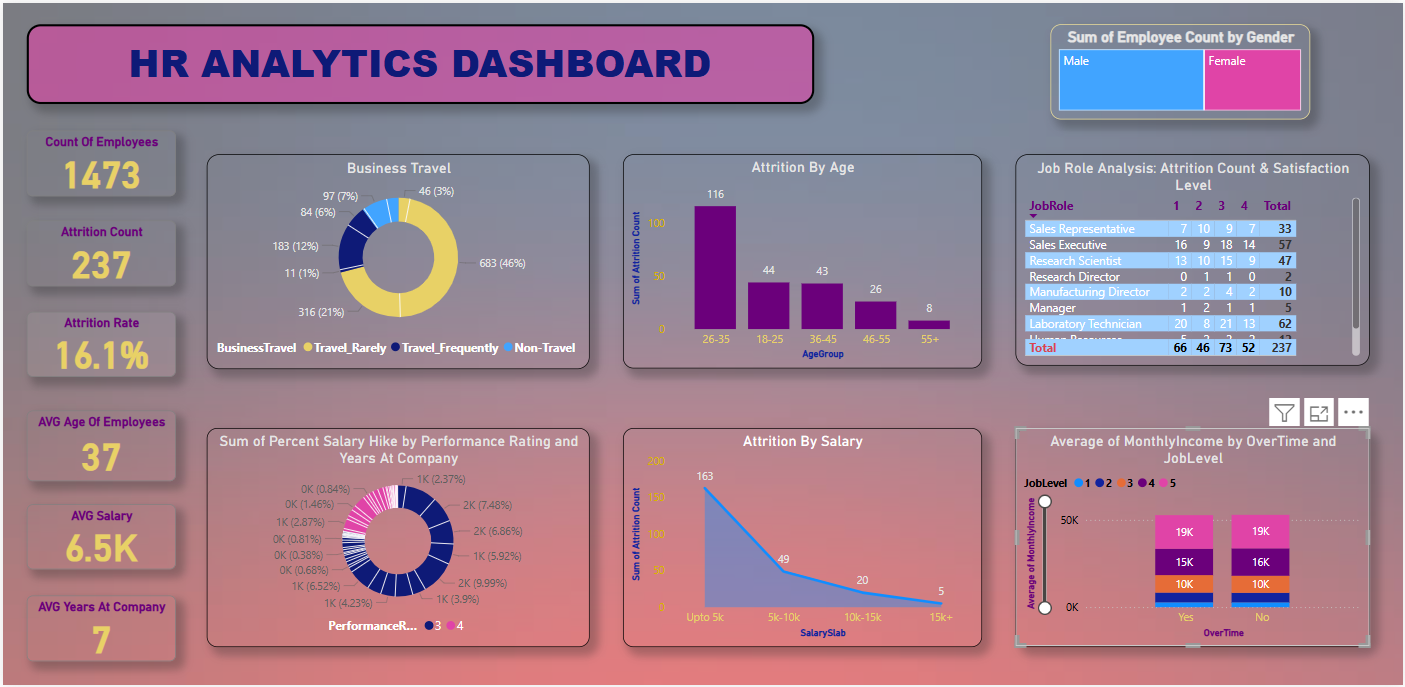

Layout of this report page (visuals, bound fields, positions):
{"tool":"powerbi","page":{"name":"Page 1","canvas":[1600,780],"ordinal":0},"visuals":[{"type":"card","title":"Count Of Employees","fields":{"Values":["CountNonNull(HR_Analytics.EmpID)"]},"box":[27.8,145.6,170,75.6],"z":0},{"type":"card","title":"Attrition Count","fields":{"Values":["Sum(HR_Analytics.Attrition Count)"]},"box":[27.8,248.9,170,75.6],"z":1000},{"type":"card","title":"Attrition Rate ","fields":{"Values":["HR_Analytics.Attrition Rate"]},"box":[27.8,353.3,170,74.4],"z":2000},{"type":"card","title":"AVG Age Of Employees","fields":{"Values":["Avg(HR_Analytics.Age)"]},"box":[27.8,465.6,170,81.1],"z":3000},{"type":"card","title":"AVG Salary","fields":{"Values":["Avg(HR_Analytics.MonthlyIncome)"]},"box":[27.8,572.2,170,74.4],"z":4000},{"type":"card","title":"AVG Years At Company","fields":{"Values":["Avg(HR_Analytics.YearsAtCompany)"]},"box":[27.8,677.8,170,75.6],"z":5000},{"type":"donutChart","title":"Business Travel","fields":{"Category":["HR_Analytics.BusinessTravel"],"Y":["Sum(HR_Analytics.EmployeeCount)"],"Series":["HR_Analytics.Department"]},"box":[232.2,173.3,437.8,245.6],"z":6000},{"type":"columnChart","title":"Attrition By Age","fields":{"Category":["HR_Analytics.AgeGroup"],"Y":["Sum(HR_Analytics.Attrition Count)"]},"box":[708.3,173.3,410,245],"z":7000},{"type":"pivotTable","title":"Job Role Analysis: Attrition Count & Satisfaction Level","fields":{"Rows":["HR_Analytics.JobRole"],"Columns":["HR_Analytics.JobSatisfaction"],"Values":["Sum(HR_Analytics.Attrition Count)"]},"box":[1156.7,173.3,405,241.7],"z":8000},{"type":"areaChart","title":"Attrition By Salary","fields":{"Category":["HR_Analytics.SalarySlab"],"Y":["Sum(HR_Analytics.Attrition Count)"]},"box":[708.3,485,410,250],"z":9000},{"type":"donutChart","title":"Sum of Percent Salary Hike by Performance Rating and Years At Company","fields":{"Category":["HR_Analytics.PerformanceRating"],"Y":["Sum(HR_Analytics.PercentSalaryHike)"],"Series":["HR_Analytics.YearsAtCompany"]},"box":[232.2,485.6,437.8,250],"z":10000},{"type":"columnChart","fields":{"Y":["Avg(HR_Analytics.MonthlyIncome)"],"Category":["HR_Analytics.OverTime"],"Series":["HR_Analytics.JobLevel"]},"box":[1156.7,485,405,250],"z":11000},{"type":"treemap","title":"Sum of Employee Count by Gender","fields":{"Group":["HR_Analytics.Gender"],"Values":["Sum(HR_Analytics.EmployeeCount)"]},"box":[1196.7,24.4,296.7,108.9],"z":12000},{"type":"textbox","box":[27.8,24.4,900,91.1],"z":13000}]}

Visuals, with their boxes in screenshot pixels (x1, y1, x2, y2), scaled from the page's 1600x780 canvas onto the 1405x687 screenshot:
"Count Of Employees" card: box(24, 128, 174, 195)
"Attrition Count" card: box(24, 219, 174, 286)
"Attrition Rate " card: box(24, 311, 174, 377)
"AVG Age Of Employees" card: box(24, 410, 174, 482)
"AVG Salary" card: box(24, 504, 174, 570)
"AVG Years At Company" card: box(24, 597, 174, 664)
"Business Travel" donutChart: box(204, 153, 588, 369)
"Attrition By Age" columnChart: box(622, 153, 982, 368)
"Job Role Analysis: Attrition Count & Satisfaction Level" pivotTable: box(1016, 153, 1371, 366)
"Attrition By Salary" areaChart: box(622, 427, 982, 647)
"Sum of Percent Salary Hike by Performance Rating and Years At Company" donutChart: box(204, 428, 588, 648)
columnChart - Avg(HR_Analytics.MonthlyIncome) x HR_Analytics.OverTime: box(1016, 427, 1371, 647)
"Sum of Employee Count by Gender" treemap: box(1051, 21, 1311, 117)
textbox: box(24, 21, 815, 102)
